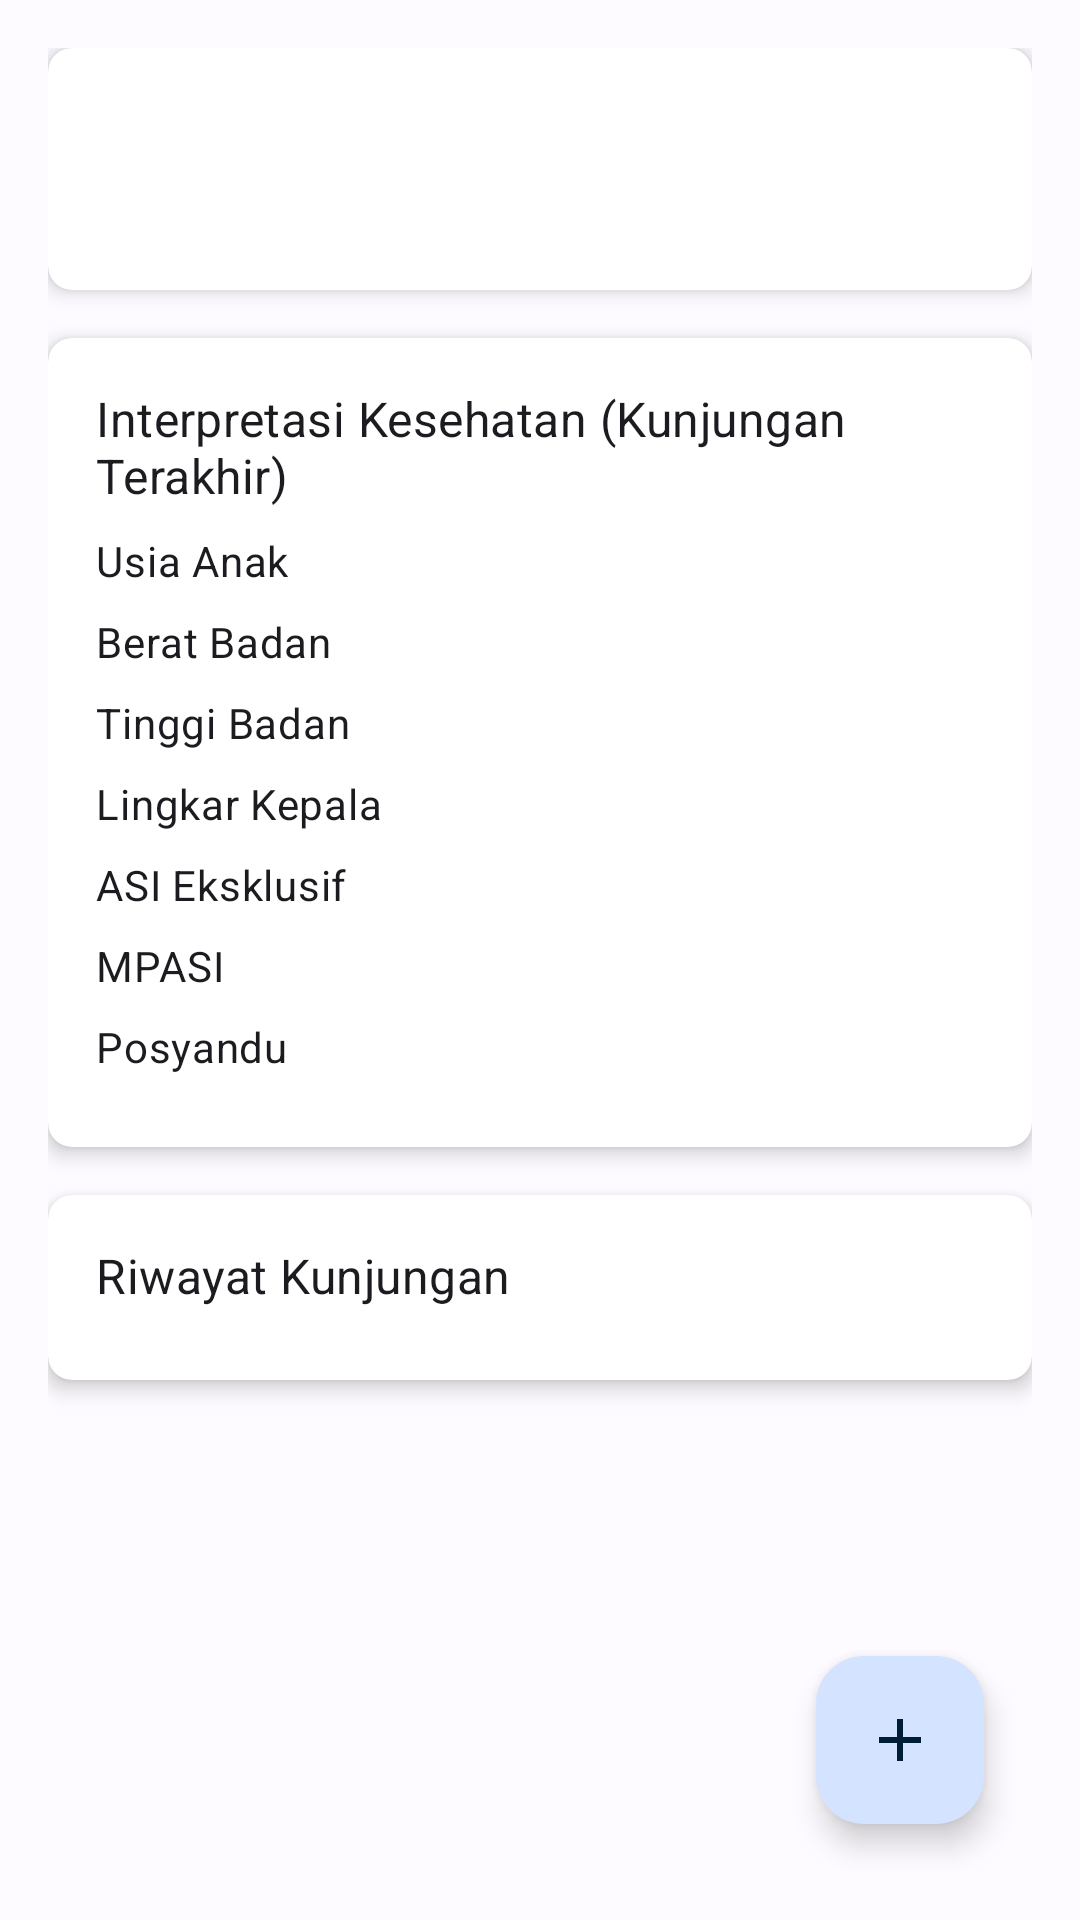

Icons on this 1080w x 1920h Android screen, each with its box as (x1, y1, x2, y2):
Tambah Kunjungan: (816, 1656, 984, 1824)
